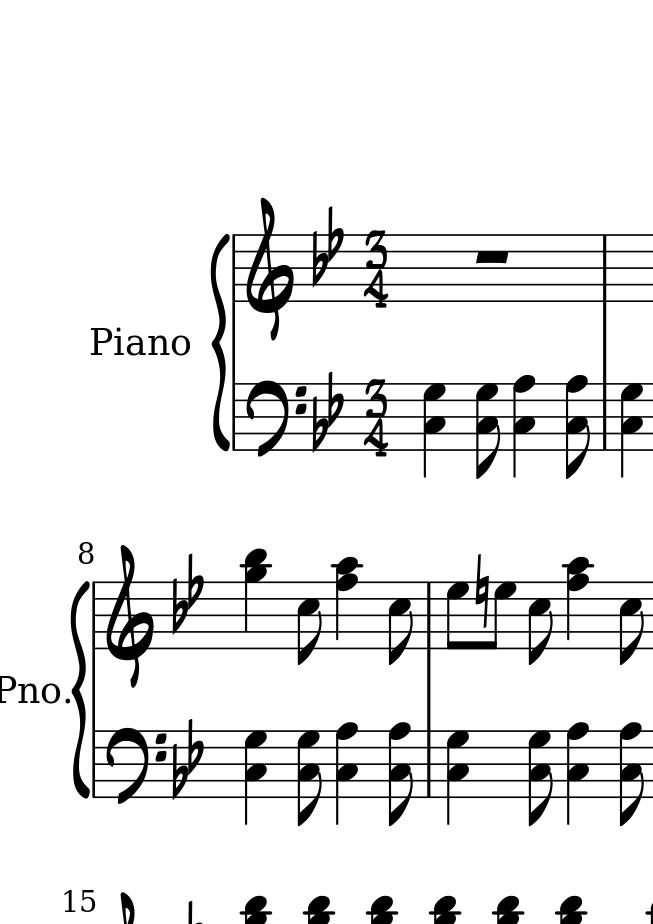1: (63, 888, 77, 915)
3: (365, 228, 388, 269), (365, 376, 388, 417)
4: (365, 269, 392, 310), (365, 415, 388, 457)
4_3_7: (422, 382, 447, 479), (620, 381, 645, 478), (242, 729, 267, 826), (445, 727, 470, 824)
4_3_8: (512, 374, 537, 480), (335, 719, 360, 825), (565, 719, 590, 825)
4_8_10: (330, 556, 363, 650), (562, 556, 595, 650)
4_9_11: (240, 548, 271, 650)
5: (77, 887, 96, 914)
8: (77, 538, 95, 566)
8_3_7: (474, 382, 501, 479), (296, 729, 323, 826), (527, 728, 554, 825)
8_3_8: (564, 374, 591, 481), (387, 720, 414, 827), (618, 721, 645, 828)
8_5: (295, 580, 322, 667), (386, 580, 413, 667), (526, 580, 552, 667), (617, 580, 643, 666)
8_7: (486, 580, 516, 650), (445, 580, 468, 651)
B_F: (172, 553, 205, 636), (311, 373, 345, 451), (311, 207, 343, 288), (171, 717, 203, 796)
Fclef: (245, 379, 306, 460), (105, 726, 165, 806)
Gclef: (244, 196, 295, 342), (104, 543, 153, 689)
Natural: (473, 553, 490, 630)
Pno: (87, 326, 191, 357), (1, 673, 61, 707)
Rests1: (471, 245, 513, 266)
Single_barline: (421, 581, 439, 648), (597, 383, 613, 449), (597, 236, 613, 300), (423, 731, 438, 797), (229, 233, 242, 304), (89, 732, 102, 795), (229, 385, 241, 448)
Slur: (211, 231, 231, 453)
TimeSig: (363, 229, 390, 311), (363, 379, 390, 460)
